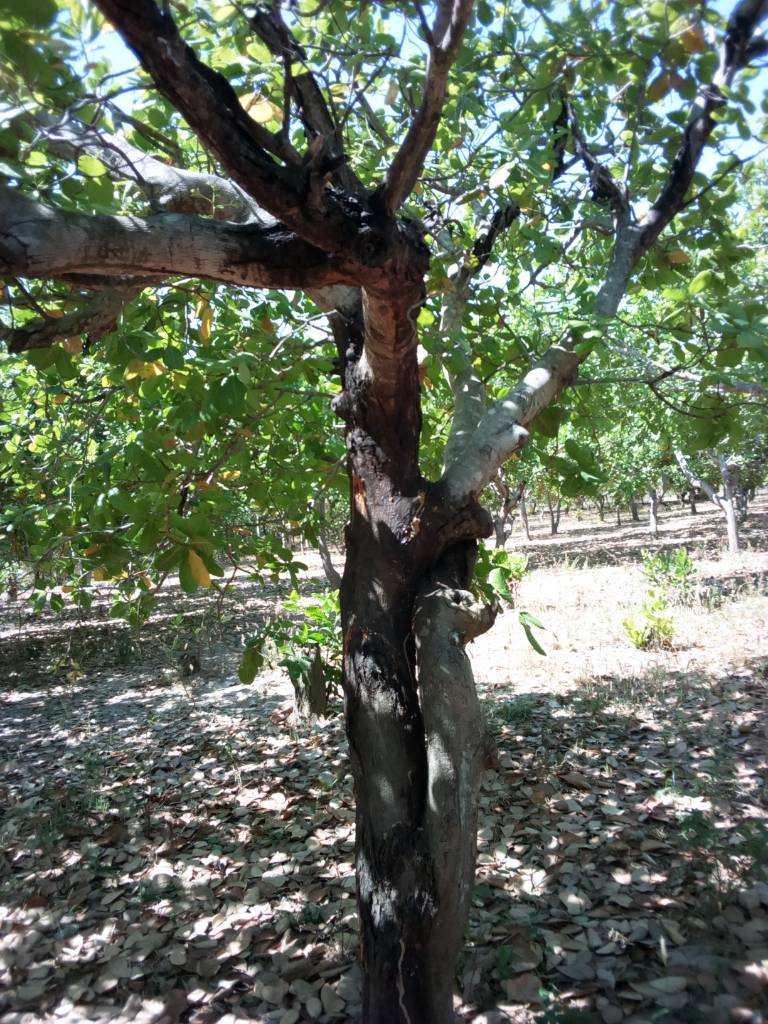Gommose: (340, 399, 436, 1014)
